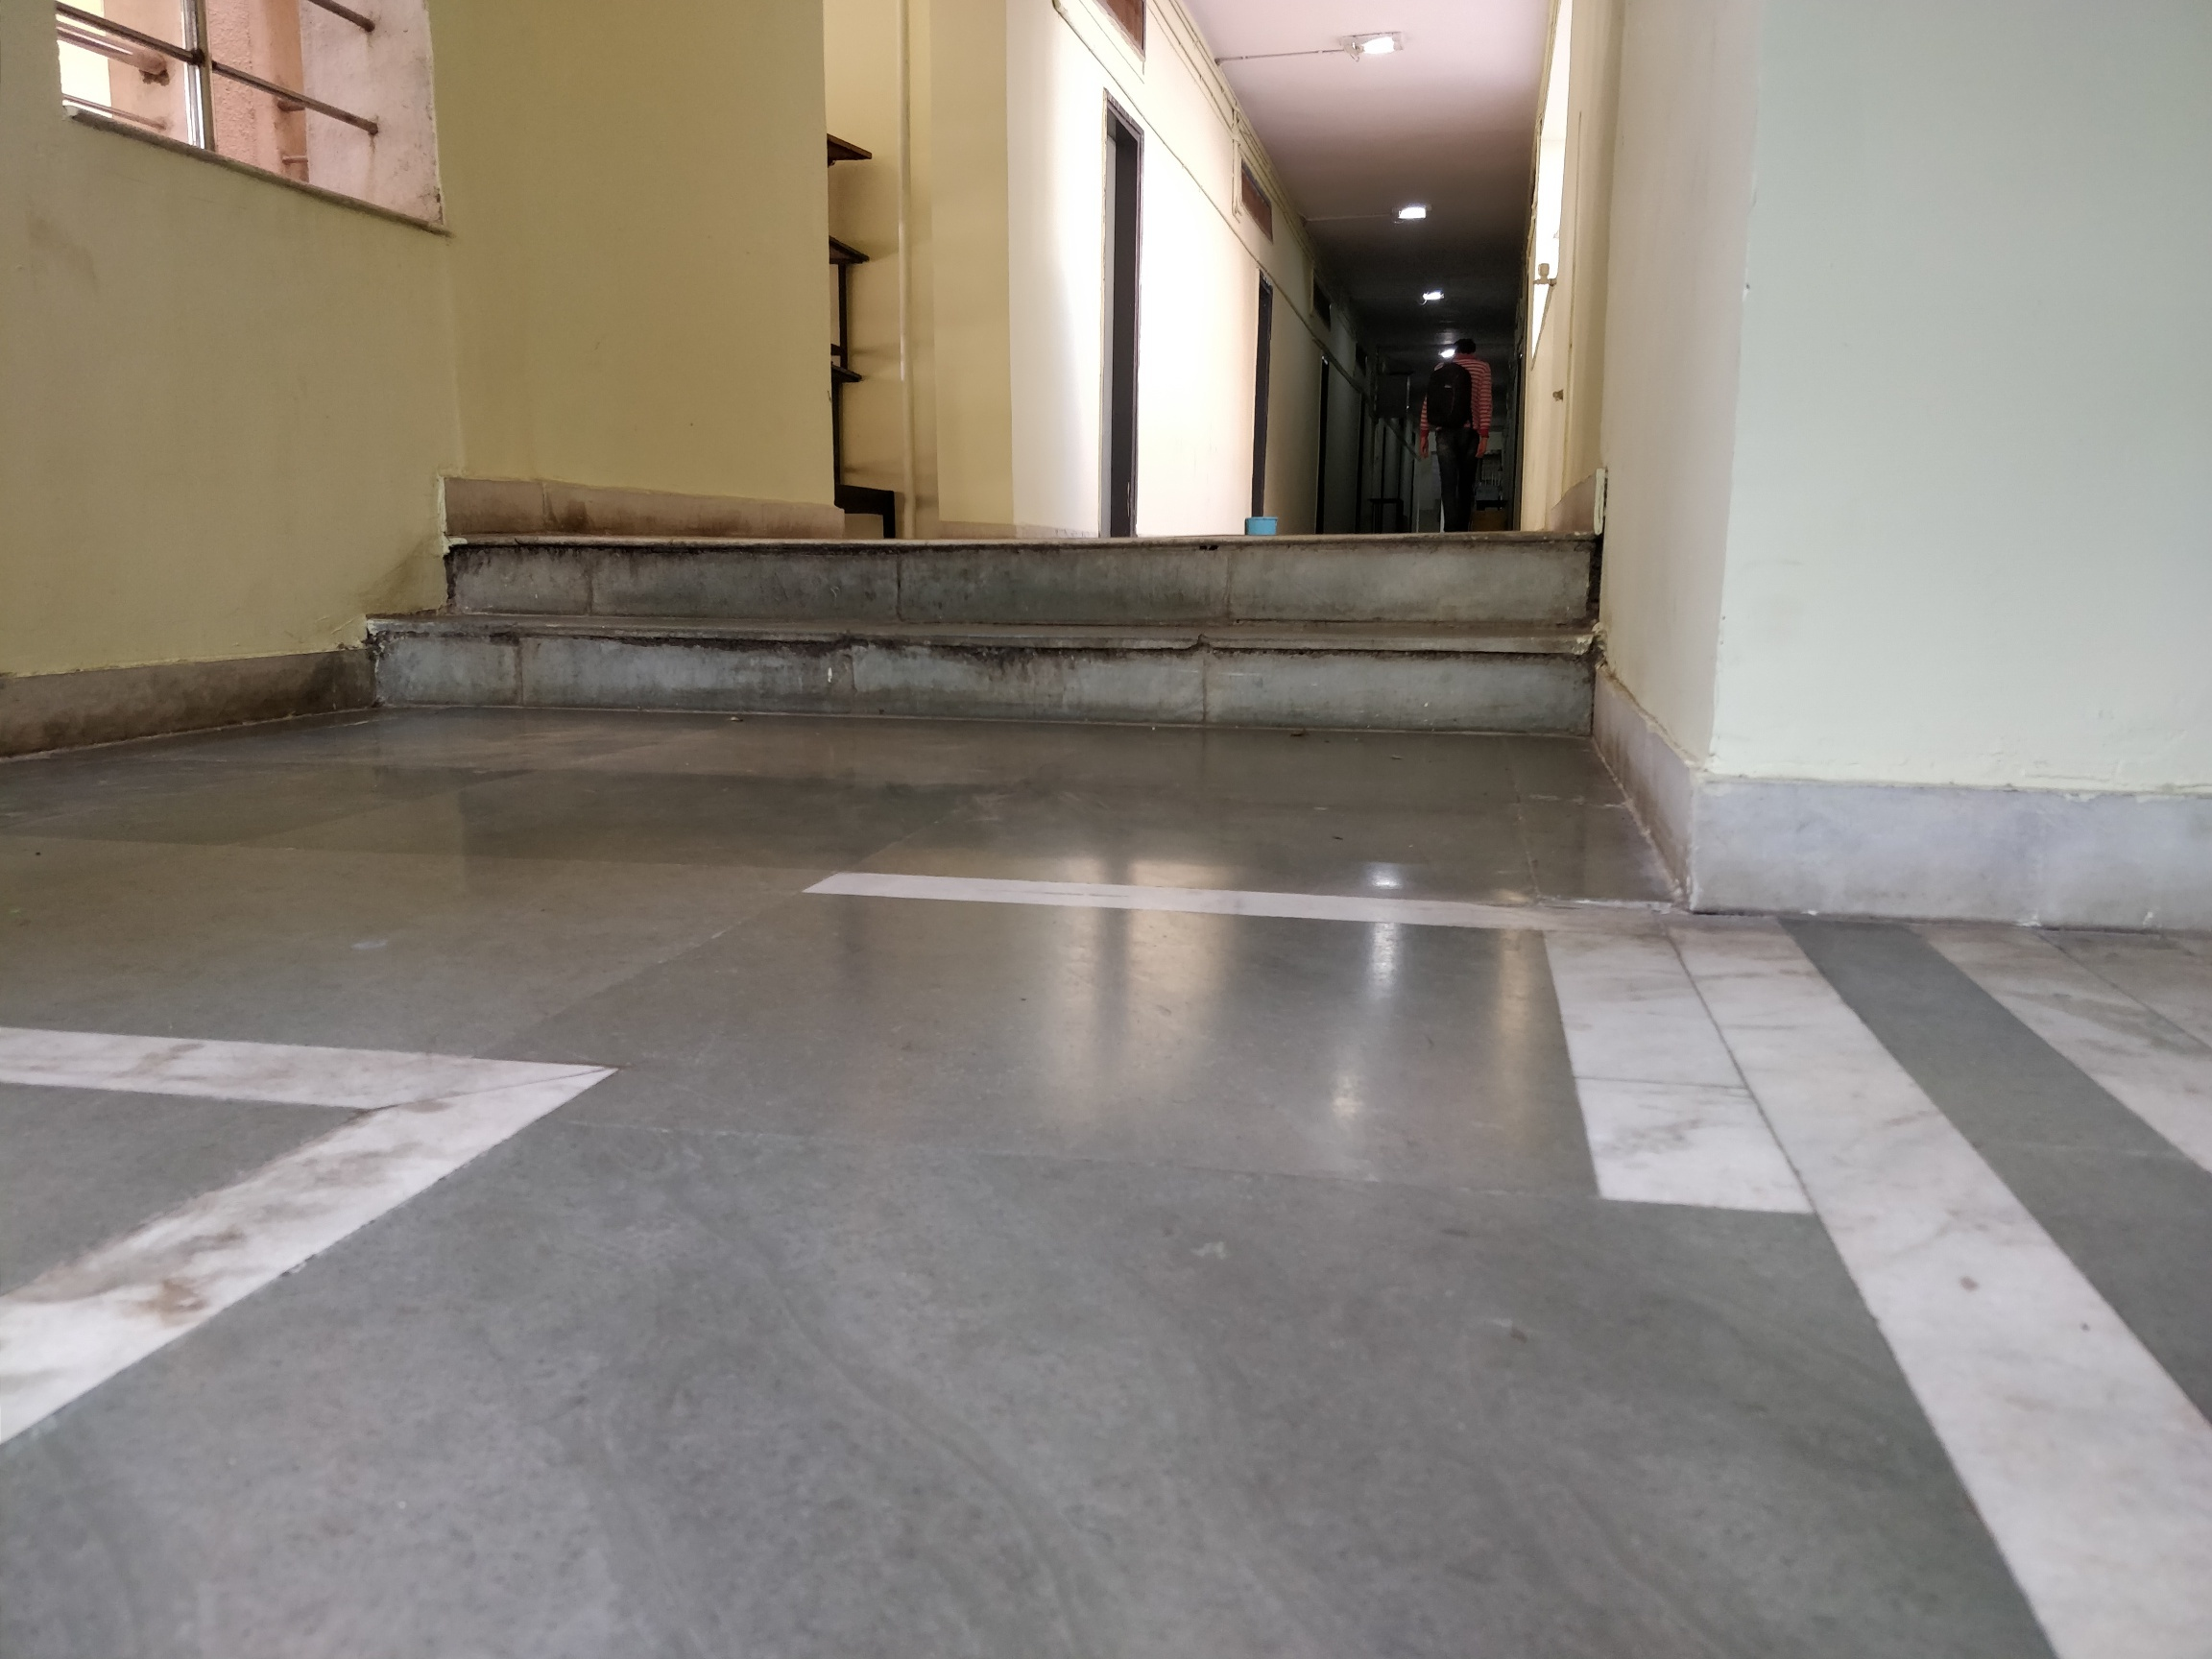stairs_up: (361, 516, 1604, 727)
